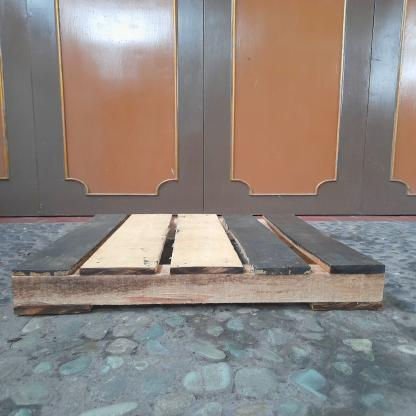Wooden-Pallet: (7, 207, 388, 318)
